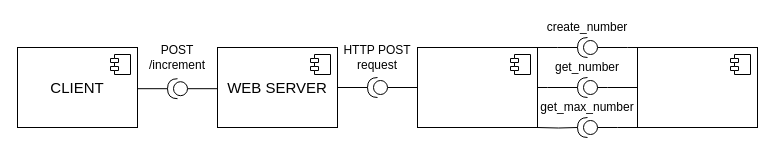
Image size: 775x155. Some labels were removed from this diagram. The shapes that lost their labels are listed below. From the top down, each one's centre as x and y in pixels, then its label:
At (x=477, y=87): "APPLICATION SERVER".
At (x=697, y=87): "DATABASE".
